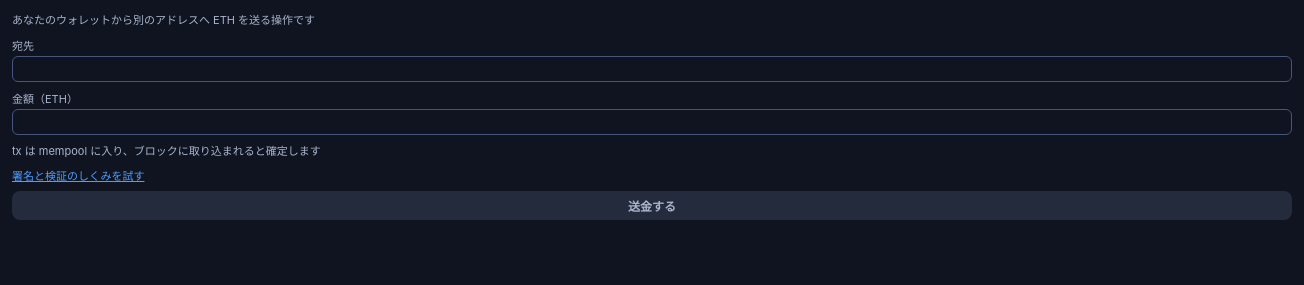
Test case: TransferForm error coexistence and priority (Issue #236) › keeps submit disabled while only the amount is fixed but the destination stays invalid
Type "0x123" into the field with test id "operation-transfer-to". click: (652,68)
box: 12,56 -> 1292,82
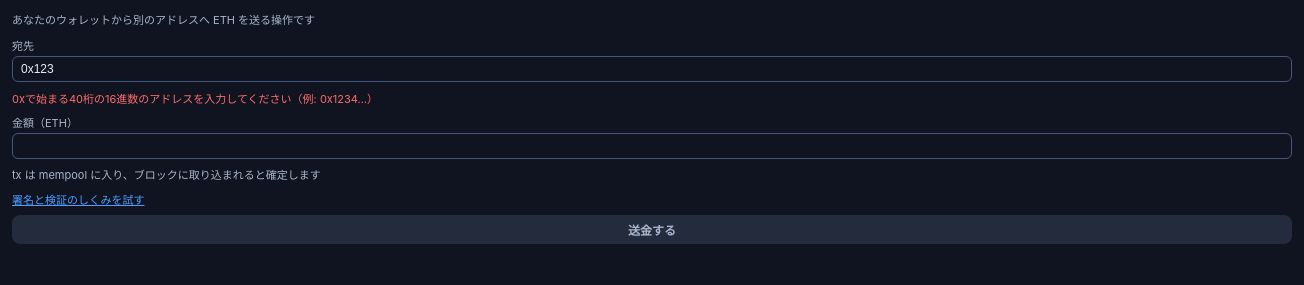
Type "not-a-number" into the field with test id "operation-transfer-amount". click: (652,146)
box: 12,132 -> 1292,158
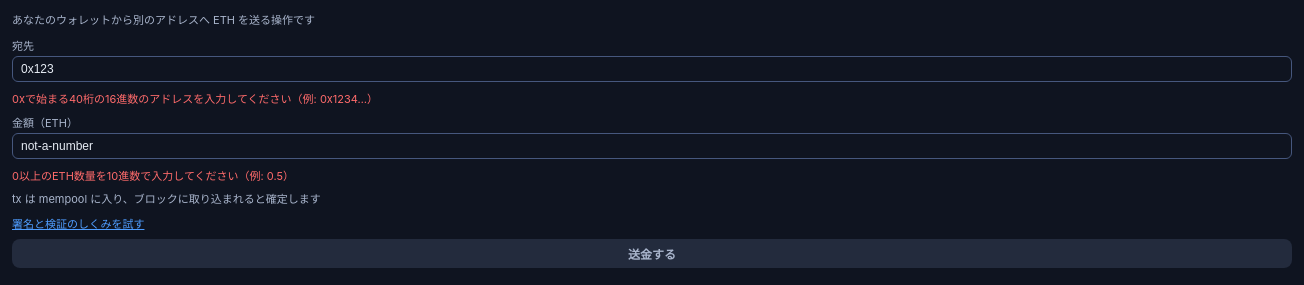
Replace the text in the field with test id "operation-transfer-amount" with "1". click: (652,146)
box: 12,132 -> 1292,158
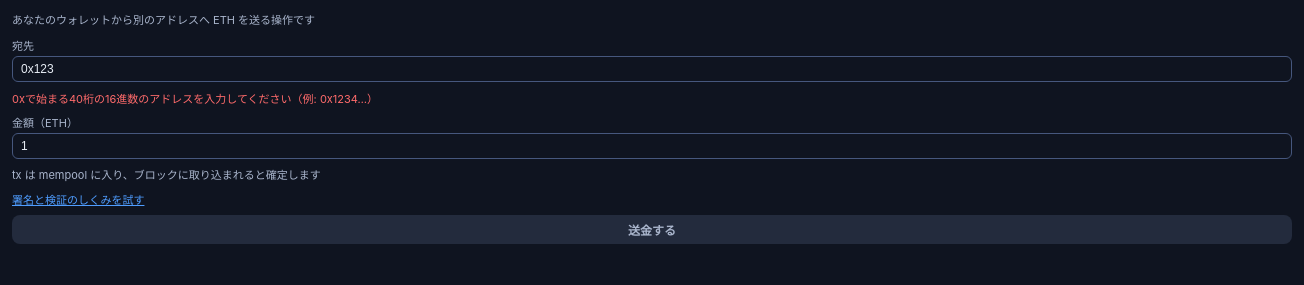
Expected: the button "送金する" is disabled, 12,215 -> 1292,244
Expected: the text "0xで始まる40桁の16進数のアドレスを入力してください（例: 0x1234…）" is shown, 12,92 -> 378,106
Expected: the text "0以上のETH数量を10進数で入力してください（例: 0.5）" is gone
